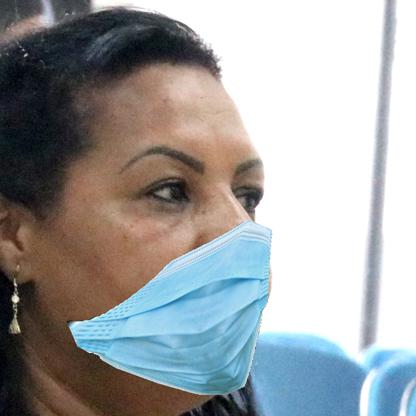mask: (81, 221, 271, 395)
